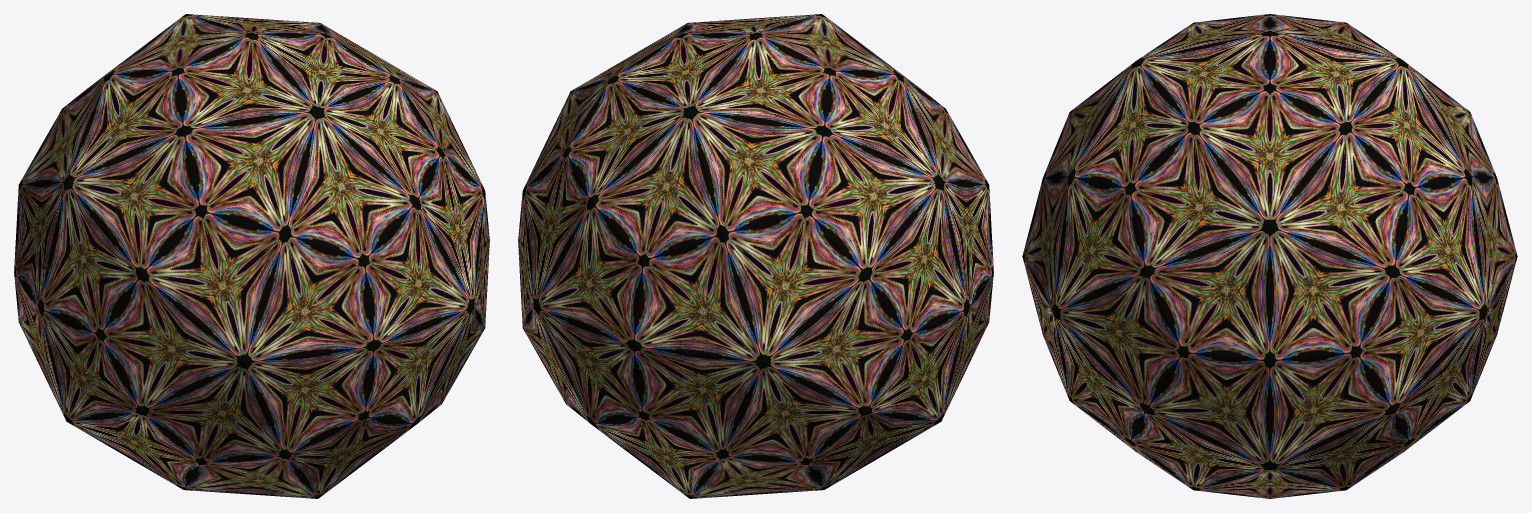
Rendered from DeltoidalHexecontahedron2.obj.
3 renders of one model, left to right at view 1: azimuth 30°, elevation 25°; view 2: azimuth 150°, elevation 25°; view 3: azimuth 270°, elevation 25°, orthographic.
Bounding box in the file's own units: 4.47 × 4.47 × 4.47.
1 material, 1 textured.
